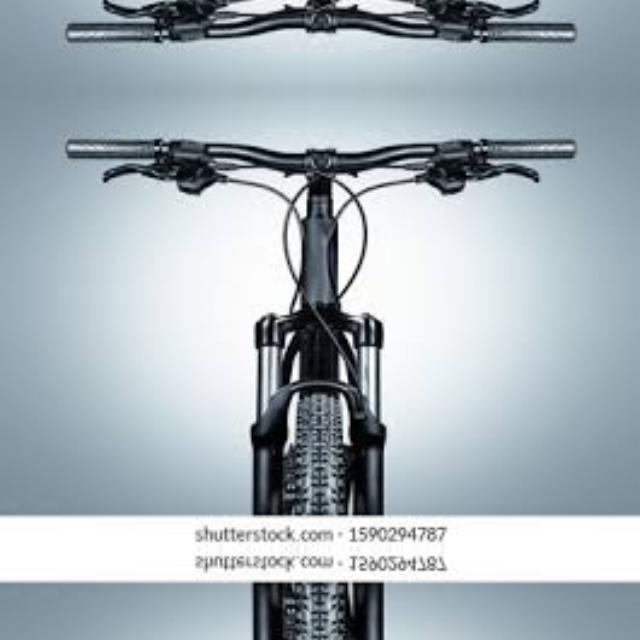obstacle: (53, 118, 585, 518), (53, 0, 585, 62), (53, 579, 585, 640)
